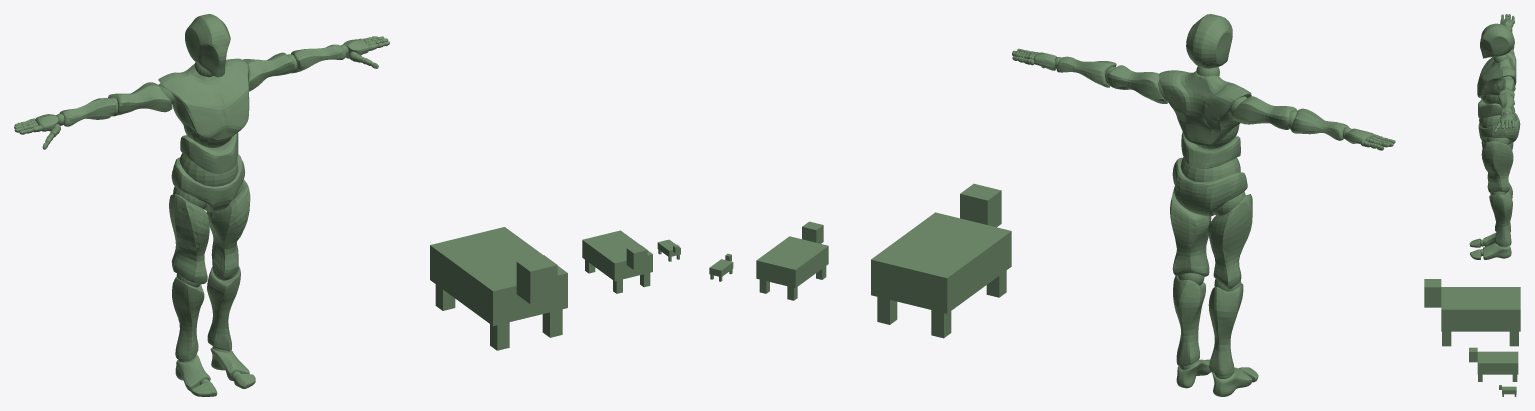
The model's file is quadruped-reptile.glb.
The picture shows the model from 3 angles, left to right: view 1: azimuth 30°, elevation 25°; view 2: azimuth 150°, elevation 25°; view 3: azimuth 270°, elevation 25°; orthographic projection. The views are drawn at different scales.
Visible parts, largest first — view 1: xier120.quadruped-reptile.mesh.015, xier120.quadruped-reptile.mesh.000, xier120.quadruped-reptile.mesh.011, xier120.quadruped-reptile.mesh.006, xier120.quadruped-reptile.mesh.009; view 2: xier120.quadruped-reptile.mesh.015, xier120.quadruped-reptile.mesh.000, xier120.quadruped-reptile.mesh.011, xier120.quadruped-reptile.mesh.006, xier120.quadruped-reptile.mesh.009; view 3: xier120.quadruped-reptile.mesh.015, xier120.quadruped-reptile.mesh.000, xier120.quadruped-reptile.mesh.006, xier120.quadruped-reptile.mesh.011, xier120.quadruped-reptile.mesh.009, xier120.quadruped-reptile.mesh.008, xier120.quadruped-reptile.mesh.019, xier120.quadruped-reptile.mesh.012, xier120.quadruped-reptile.mesh.005.
Part boxes in pixels (left/top/right/bottom): xier120.quadruped-reptile.mesh.015: left=14, top=14, right=389, bottom=396; xier120.quadruped-reptile.mesh.000: left=430, top=227, right=567, bottom=326; xier120.quadruped-reptile.mesh.011: left=20, top=37, right=385, bottom=384; xier120.quadruped-reptile.mesh.006: left=582, top=230, right=652, bottom=281; xier120.quadruped-reptile.mesh.009: left=516, top=255, right=557, bottom=304; xier120.quadruped-reptile.mesh.015: left=1012, top=14, right=1395, bottom=396; xier120.quadruped-reptile.mesh.000: left=871, top=212, right=1011, bottom=313; xier120.quadruped-reptile.mesh.011: left=1017, top=50, right=1389, bottom=378; xier120.quadruped-reptile.mesh.006: left=756, top=236, right=828, bottom=287; xier120.quadruped-reptile.mesh.009: left=960, top=183, right=1001, bottom=227; xier120.quadruped-reptile.mesh.015: left=1469, top=14, right=1520, bottom=259; xier120.quadruped-reptile.mesh.000: left=1441, top=287, right=1520, bottom=331; xier120.quadruped-reptile.mesh.006: left=1477, top=351, right=1518, bottom=374; xier120.quadruped-reptile.mesh.011: left=1479, top=15, right=1516, bottom=255; xier120.quadruped-reptile.mesh.009: left=1424, top=279, right=1441, bottom=307; xier120.quadruped-reptile.mesh.008: left=1442, top=331, right=1451, bottom=346; xier120.quadruped-reptile.mesh.019: left=1509, top=331, right=1518, bottom=346; xier120.quadruped-reptile.mesh.012: left=1469, top=347, right=1477, bottom=362; xier120.quadruped-reptile.mesh.005: left=1502, top=386, right=1516, bottom=394.
Size of the model in its own units: 3.46 by 1.8 by 0.6955.
